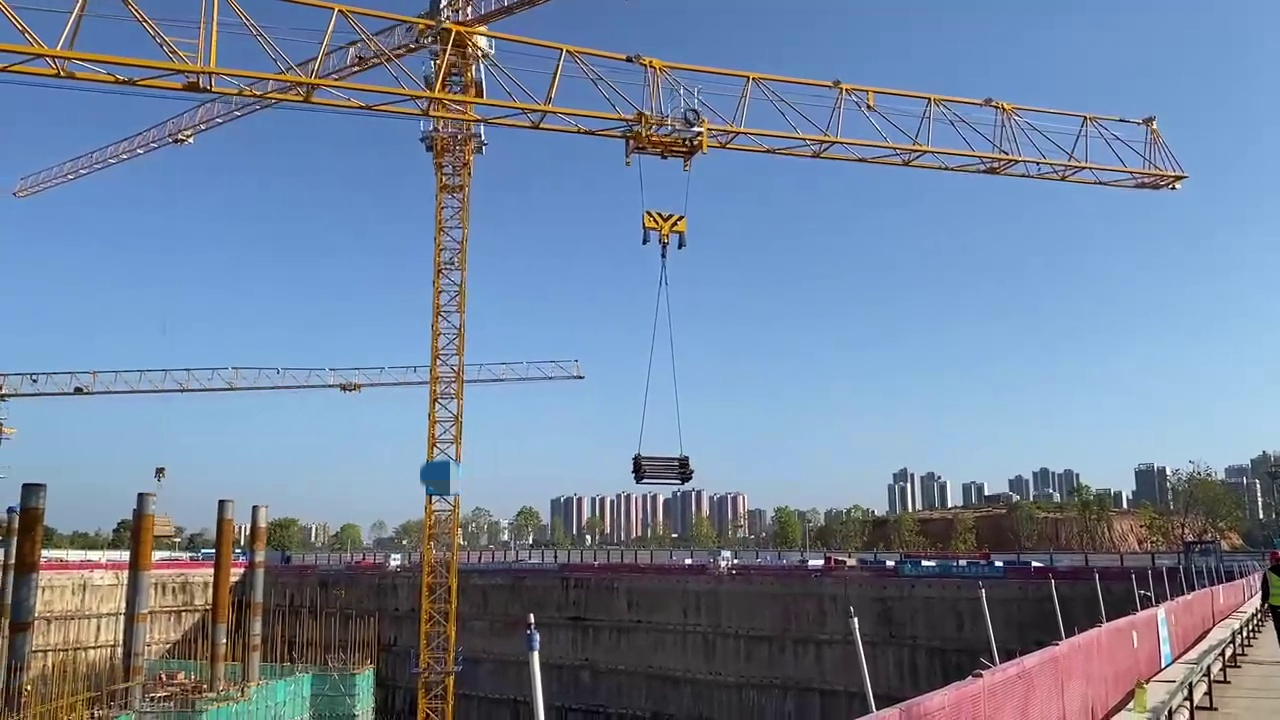fence: (849, 607, 1145, 720), (1147, 575, 1258, 657)
hook: (641, 206, 692, 247)
person: (1262, 549, 1280, 655)
vest: (1264, 566, 1280, 604)
